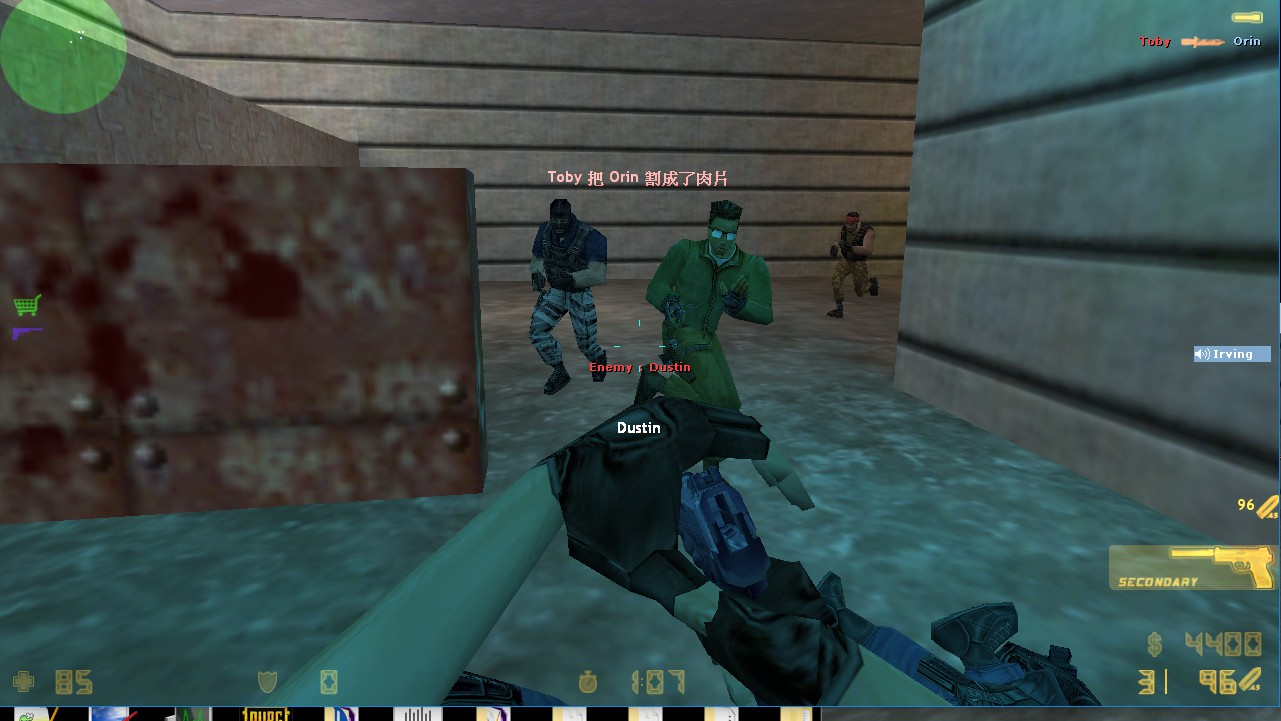person: (653, 195, 784, 422), (517, 191, 613, 399), (826, 198, 887, 325)
